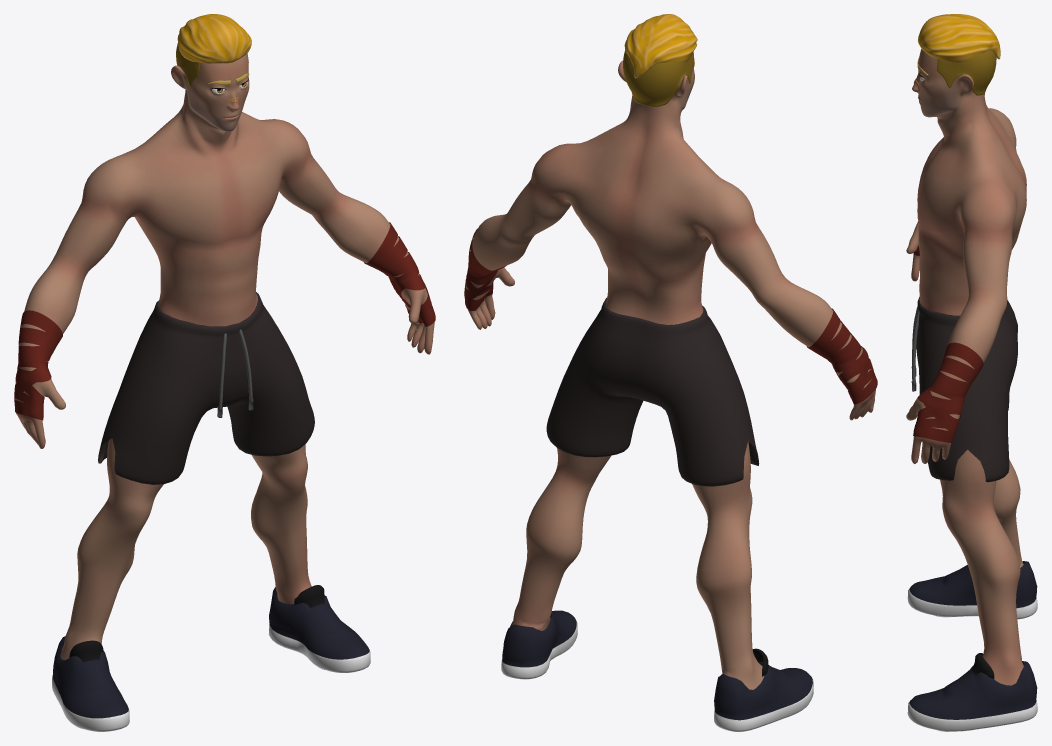
Rendered from low poly fighter char.fbx.
The picture shows the model from 3 angles, left to right: view 1: azimuth 30°, elevation 25°; view 2: azimuth 150°, elevation 25°; view 3: azimuth 270°, elevation 25°; orthographic projection. The views are drawn at different scales.
Visible parts, largest first — view 1: low-poly boxer, Cloth_low_poly, shoes, bandages2, hair, bandages1, short rope; view 2: low-poly boxer, Cloth_low_poly, shoes, hair, bandages2, hairlite, bandages1; view 3: low-poly boxer, shoes, Cloth_low_poly, bandages1, hair, hairlite, short rope.
Part boxes in pixels (left/top/right/bottom): low-poly boxer: left=15, top=53, right=434, bottom=660; Cloth_low_poly: left=98, top=292, right=314, bottom=484; shoes: left=52, top=585, right=370, bottom=731; bandages2: left=14, top=310, right=62, bottom=420; hair: left=177, top=14, right=251, bottom=63; bandages1: left=364, top=222, right=435, bottom=326; short rope: left=217, top=329, right=253, bottom=417; low-poly boxer: left=465, top=52, right=875, bottom=689; Cloth_low_poly: left=546, top=298, right=759, bottom=486; shoes: left=501, top=610, right=813, bottom=731; hair: left=624, top=14, right=697, bottom=78; bandages2: left=806, top=308, right=877, bottom=404; hairlite: left=623, top=50, right=694, bottom=106; bandages1: left=464, top=228, right=506, bottom=310; low-poly boxer: left=906, top=49, right=1026, bottom=685; shoes: left=907, top=561, right=1037, bottom=731; Cloth_low_poly: left=916, top=297, right=1017, bottom=482; bandages1: left=913, top=342, right=983, bottom=442; hair: left=918, top=14, right=1000, bottom=62; hairlite: left=937, top=50, right=996, bottom=95; short rope: left=911, top=306, right=919, bottom=391.
Bounding box in the file's own units: 407 × 634 × 117.
